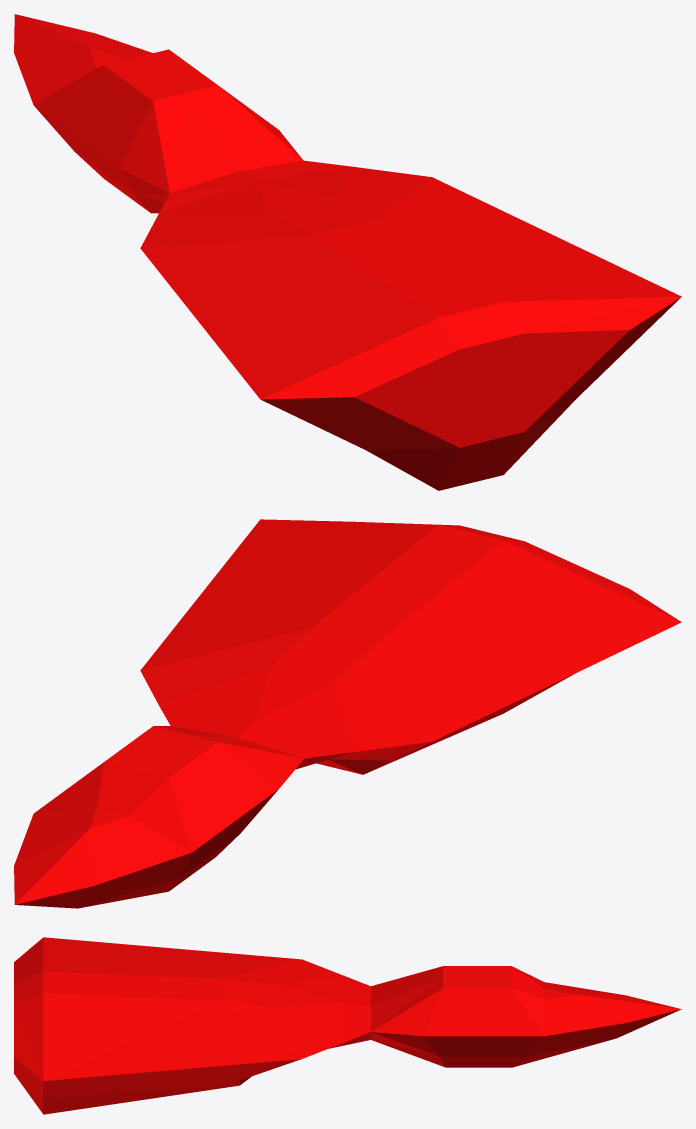
The model's file is E_body.FBX.
3 views of the same model, one above another, from view 1: azimuth 30°, elevation 25°; view 2: azimuth 150°, elevation 25°; view 3: azimuth 270°, elevation 25° (orthographic). The views are drawn at different scales.
Visible parts, largest first — view 1: VIFS001, VIFS002; view 2: VIFS001, VIFS002, VIFS003; view 3: VIFS001, VIFS002, VIFS003.
Boxes of the visible parts, x1=… form: VIFS001: x1=14, y1=14, x2=681, y2=490; VIFS002: x1=34, y1=106, x2=681, y2=450; VIFS001: x1=14, y1=519, x2=681, y2=904; VIFS002: x1=15, y1=638, x2=648, y2=908; VIFS003: x1=79, y1=878, x2=179, y2=908; VIFS001: x1=14, y1=937, x2=681, y2=1114; VIFS002: x1=14, y1=1009, x2=680, y2=1098; VIFS003: x1=512, y1=1039, x2=613, y2=1067.
Bounding box in the file's own units: 0.52 × 0.213 × 1.02.
